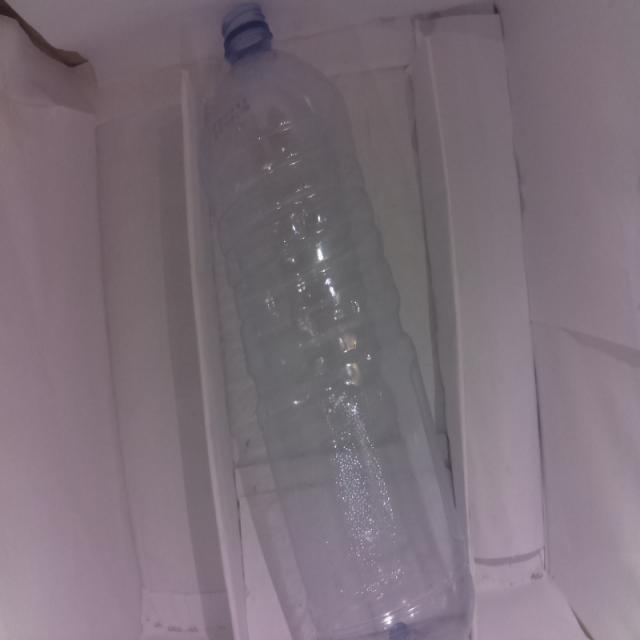plastic_bottle: (202, 4, 474, 640)
